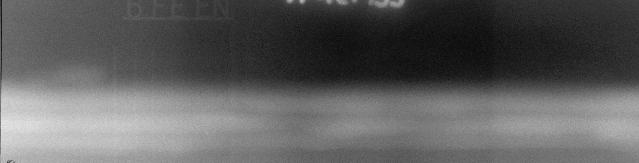FF: (7, 94, 635, 152)
